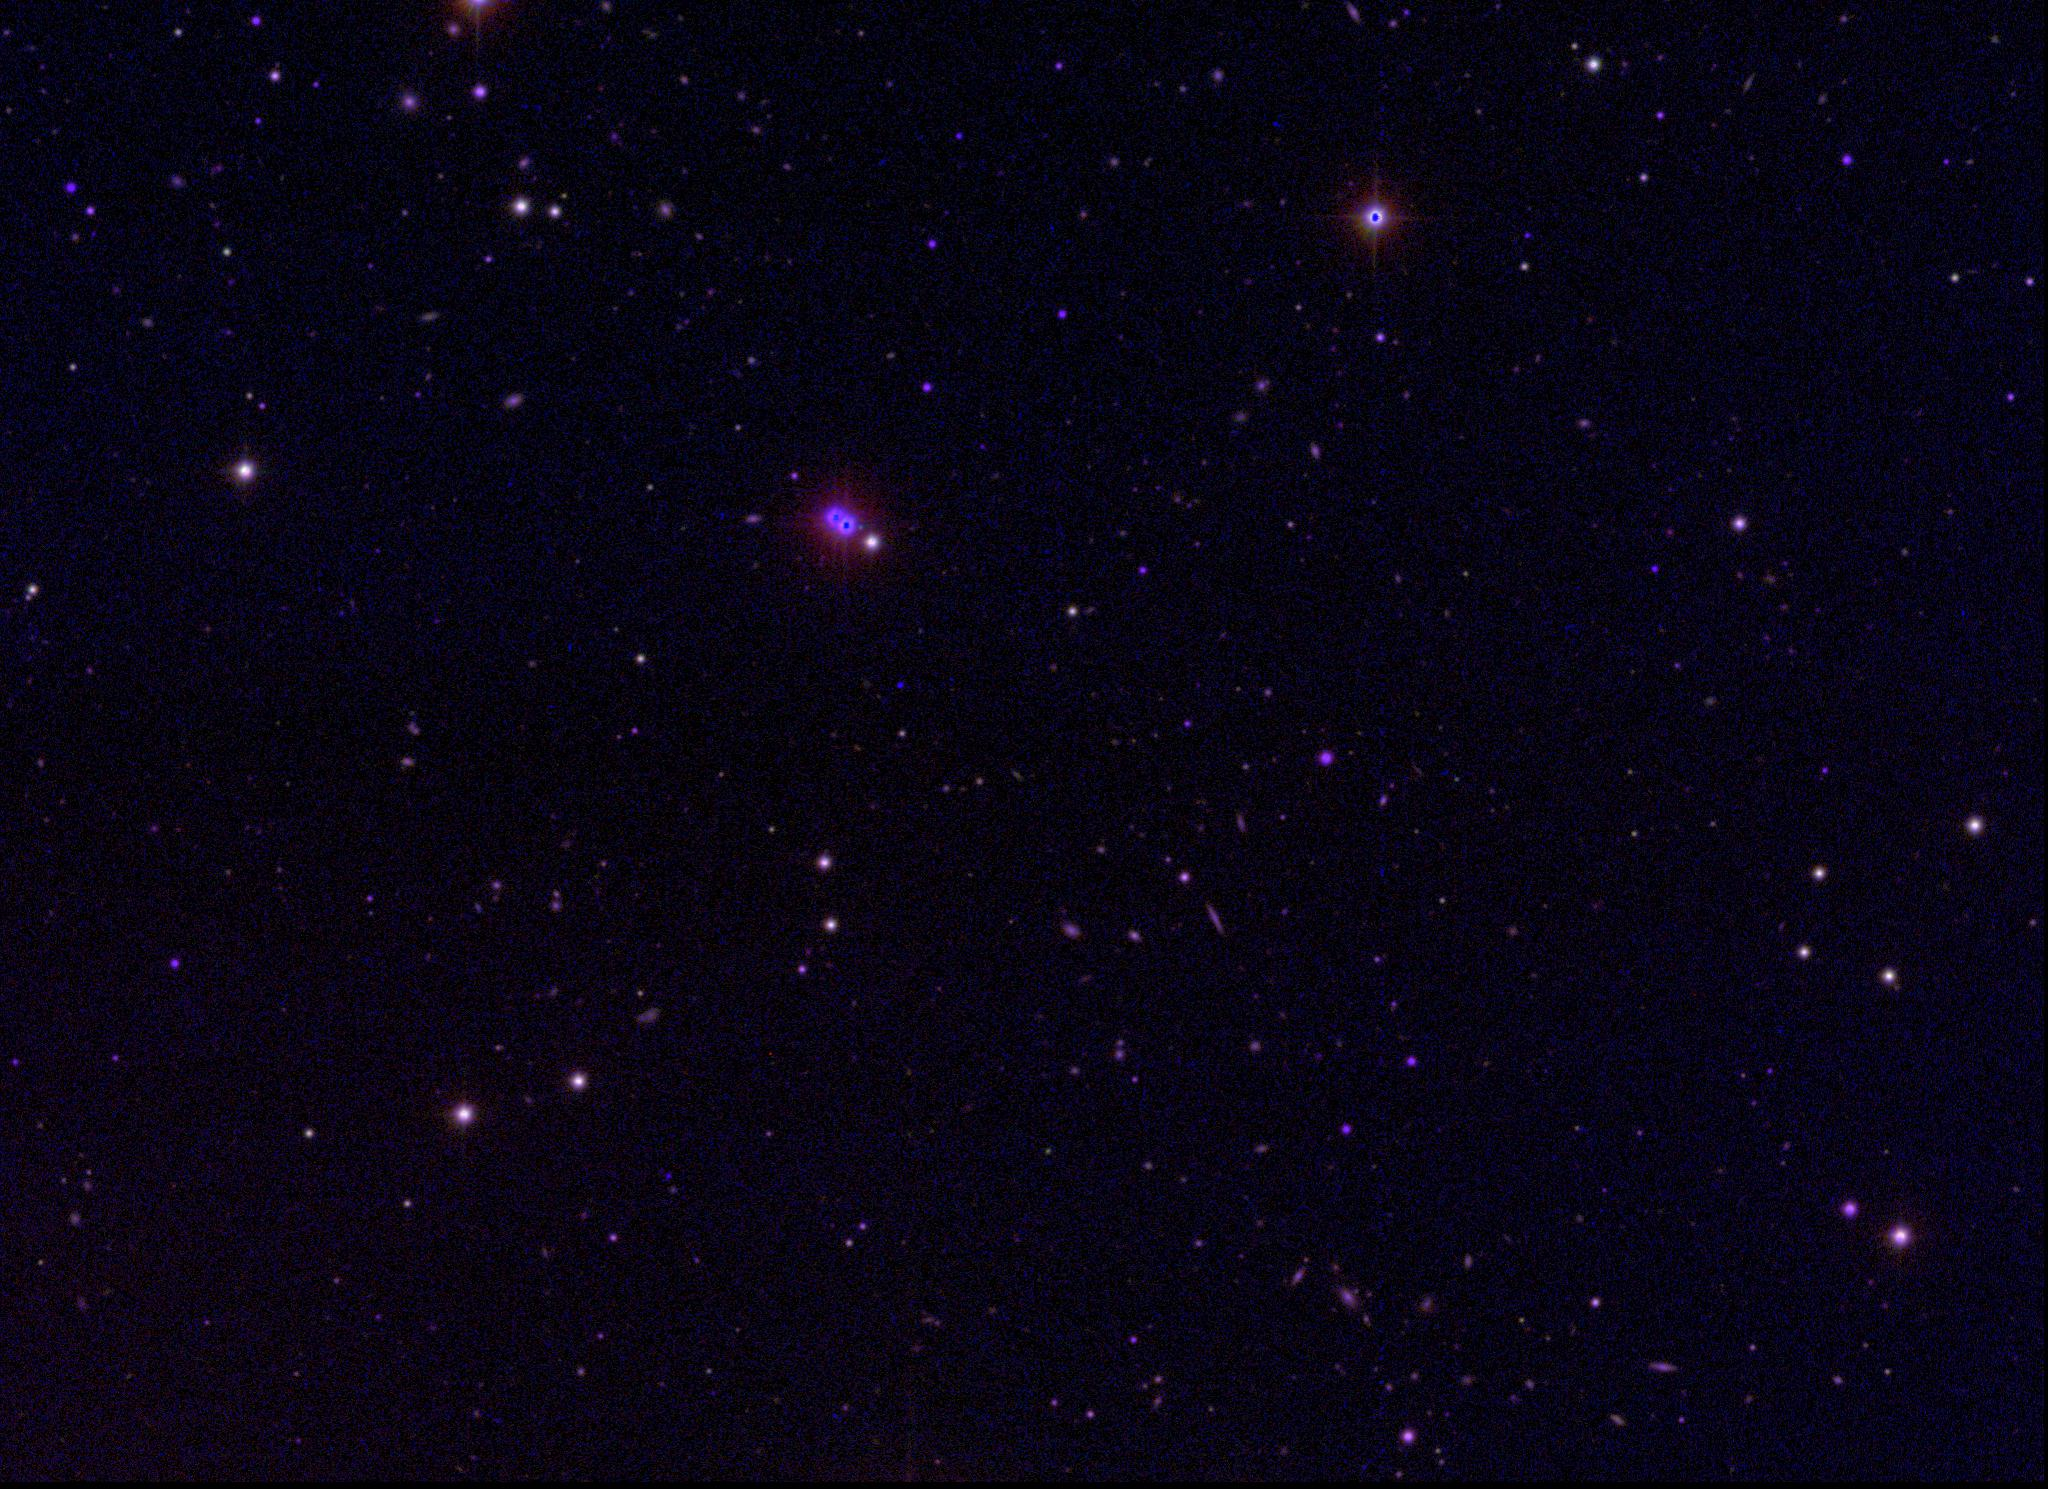L: (892, 678, 906, 690)
